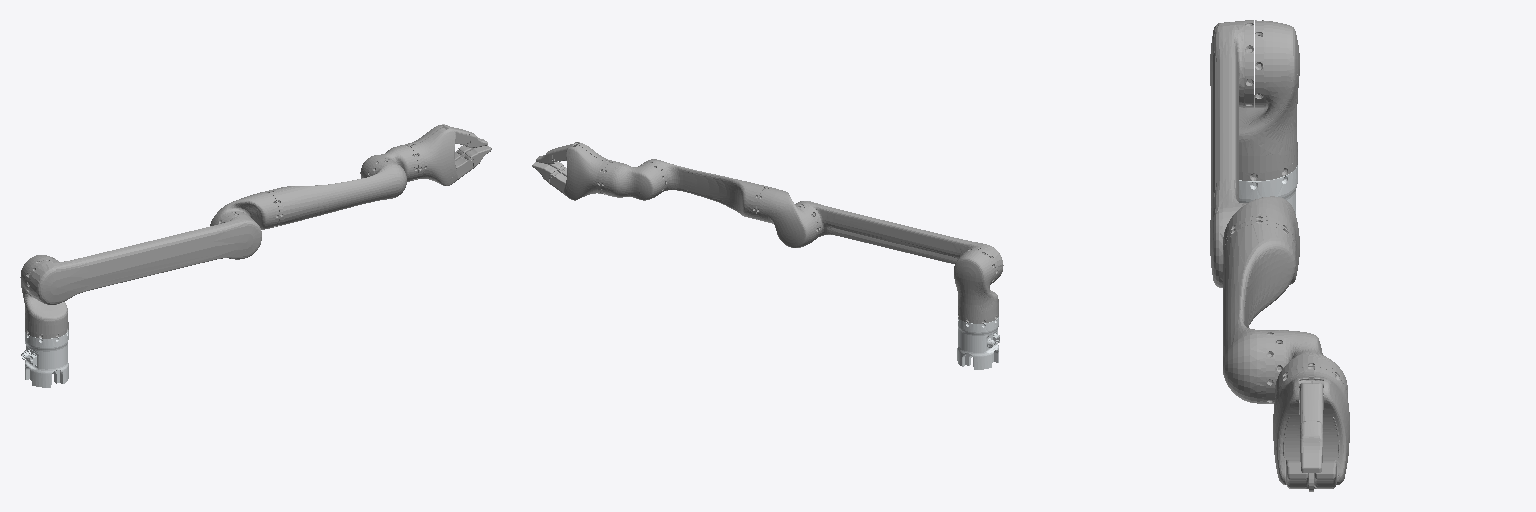
The robot description file, URDF, robot "aria_v2_arm":
<?xml version="1.0" encoding="utf-8"?>
<!-- This URDF was automatically created by SolidWorks to URDF Exporter! Originally created by [author] ([email redacted]) 
     Commit Version: 1.5.1-0-g916b5db  Build Version: 1.5.7152.31018
     For more information, please see http://wiki.ros.org/sw_urdf_exporter -->
<robot
  name="aria_v2_arm">
  <link
    name="base_link">
    <inertial>
      <origin
        xyz="-0.000383789783829872 -0.000295313814780738 0.0610779332797032"
        rpy="0 0 0" />
      <mass
        value="0.0001" />
      <inertia
        ixx="0.1"
        ixy="0.1"
        ixz="0.1"
        iyy="0.1"
        iyz="0.1"
        izz="0.1" />
    </inertial>
    <visual>
      <origin
        xyz="0 0 0"
        rpy="0 0 0" />
      <geometry>
        <mesh
          filename="package://aria_description/meshes/aria_v2/base_link.STL" />
      </geometry>
      <material
        name="">
        <color
          rgba="0.898039215686275 0.917647058823529 0.929411764705882 1" />
      </material>
    </visual>
    <collision>
      <origin
        xyz="0 0 0"
        rpy="0 0 0" />
      <geometry>
        <mesh
          filename="package://aria_description/meshes/aria_v2/base_link.STL" />
      </geometry>
    </collision>
  </link>
  <link
    name="arm_link_1">
    <inertial>
      <origin
        xyz="2.4686086719899E-06 0.0079576297403919 0.0595419107021942"
        rpy="0 0 0" />
      <mass
        value="0.0001" />
      <inertia
        ixx="0.1"
        ixy="0.1"
        ixz="0.1"
        iyy="0.1"
        iyz="0.1"
        izz="0.1" />
    </inertial>
    <visual>
      <origin
        xyz="0 0 0"
        rpy="0 0 0" />
      <geometry>
        <mesh
          filename="package://aria_description/meshes/aria_v2/Link_C2.STL" />
      </geometry>
      <material
        name="">
        <color
          rgba="0.698039215686274 0.698039215686274 0.698039215686274 1" />
      </material>
    </visual>
    <collision>
      <origin
        xyz="0 0 0"
        rpy="0 0 0" />
      <geometry>
        <mesh
          filename="package://aria_description/meshes/aria_v2/Link_C2.STL" />
      </geometry>
    </collision>
  </link>
  <joint
    name="arm_joint_1"
    type="continuous">
    <origin
      xyz="0 0 0.10125"
      rpy="0 0 0" />
    <parent
      link="base_link" />
    <child
      link="arm_link_1" />
    <axis
      xyz="0 0 1" />
    <limit
      lower="-3.1415"
      upper="3.1415"
      effort="10"
      velocity="0.7" />
  </joint>
  <link
    name="arm_link_2">
    <inertial>
      <origin
        xyz="0.205003242583219 -0.0210697838818882 0.00222877749732636"
        rpy="0 0 0" />
      <mass
        value="0.0001" />
      <inertia
        ixx="0.1"
        ixy="0.1"
        ixz="0.1"
        iyy="0.1"
        iyz="0.1"
        izz="0.1" />
    </inertial>
    <visual>
      <origin
        xyz="0 0 0"
        rpy="0 0 0" />
      <geometry>
        <mesh
          filename="package://aria_description/meshes/aria_v2/Link_C3.STL" />
      </geometry>
      <material
        name="">
        <color
          rgba="0.698039215686274 0.698039215686274 0.698039215686274 1" />
      </material>
    </visual>
    <collision>
      <origin
        xyz="0 0 0"
        rpy="0 0 0" />
      <geometry>
        <mesh
          filename="package://aria_description/meshes/aria_v2/Link_C3.STL" />
      </geometry>
    </collision>
  </link>
  <joint
    name="arm_joint_2"
    type="revolute">
    <origin
      xyz="0 0.000249999999999995 0.10375"
      rpy="0 0 0" />
    <parent
      link="arm_link_1" />
    <child
      link="arm_link_2" />
    <axis
      xyz="0 -1 0" />
    <limit
      lower="-0.97"
      upper="3.1415"
      effort="10"
      velocity="0.7" />
  </joint>
  <link
    name="arm_link_3">
    <inertial>
      <origin
        xyz="0.0268687450452961 0.0111399128954109 0.013563624456118"
        rpy="0 0 0" />
      <mass
        value="0.0001" />
      <inertia
        ixx="0.1"
        ixy="0.1"
        ixz="0.1"
        iyy="0.1"
        iyz="0.1"
        izz="0.1" />
    </inertial>
    <visual>
      <origin
        xyz="0 0 0"
        rpy="0 0 0" />
      <geometry>
        <mesh
          filename="package://aria_description/meshes/aria_v2/Link_C4.STL" />
      </geometry>
      <material
        name="">
        <color
          rgba="0.698039215686274 0.698039215686274 0.698039215686274 1" />
      </material>
    </visual>
    <collision>
      <origin
        xyz="0 0 0"
        rpy="0 0 0" />
      <geometry>
        <mesh
          filename="package://aria_description/meshes/aria_v2/Link_C4.STL" />
      </geometry>
    </collision>
  </link>
  <joint
    name="arm_joint_3"
    type="revolute">
    <origin
      xyz="0.41 0 0"
      rpy="0 0 0" />
    <parent
      link="arm_link_2" />
    <child
      link="arm_link_3" />
    <axis
      xyz="0 -1 0" />
    <limit
      lower="-3.1415"
      upper="1.689"
      effort="10"
      velocity="0.7" />
  </joint>
  <link
    name="arm_link_4">
    <inertial>
      <origin
        xyz="0.135116102833233 -0.0047939012468829 -7.36630495865032E-06"
        rpy="0 0 0" />
      <mass
        value="0.0001" />
      <inertia
        ixx="0.1"
        ixy="0.1"
        ixz="0.1"
        iyy="0.1"
        iyz="0.1"
        izz="0.1" />
    </inertial>
    <visual>
      <origin
        xyz="0 0 0"
        rpy="0 0 0" />
      <geometry>
        <mesh
          filename="package://aria_description/meshes/aria_v2/Link_C5.STL" />
      </geometry>
      <material
        name="">
        <color
          rgba="0.698039215686274 0.698039215686274 0.698039215686274 1" />
      </material>
    </visual>
    <collision>
      <origin
        xyz="0 0 0"
        rpy="0 0 0" />
      <geometry>
        <mesh
          filename="package://aria_description/meshes/aria_v2/Link_C5.STL" />
      </geometry>
    </collision>
  </link>
  <joint
    name="arm_joint_4"
    type="continuous">
    <origin
      xyz="0.07925 0.00474999841382343 0.03"
      rpy="0 0 0" />
    <parent
      link="arm_link_3" />
    <child
      link="arm_link_4" />
    <axis
      xyz="1 0 0" />
    <limit
      lower="-3.14"
      upper="3.14"
      effort="10"
      velocity="1.1" />
  </joint>
  <link
    name="arm_link_5">
    <inertial>
      <origin
        xyz="0.0293280630951598 0.0250334171427263 -1.12506015947922E-07"
        rpy="0 0 0" />
      <mass
        value="0.0001" />
      <inertia
        ixx="0.1"
        ixy="0.1"
        ixz="0.1"
        iyy="0.1"
        iyz="0.1"
        izz="0.1" />
    </inertial>
    <visual>
      <origin
        xyz="0 0 0"
        rpy="0 0 0" />
      <geometry>
        <mesh
          filename="package://aria_description/meshes/aria_v2/Link_C6.STL" />
      </geometry>
      <material
        name="">
        <color
          rgba="0.698039215686274 0.698039215686274 0.698039215686274 1" />
      </material>
    </visual>
    <collision>
      <origin
        xyz="0 0 0"
        rpy="0 0 0" />
      <geometry>
        <mesh
          filename="package://aria_description/meshes/aria_v2/Link_C6.STL" />
      </geometry>
    </collision>
  </link>
  <joint
    name="arm_joint_5"
    type="revolute">
    <origin
      xyz="0.256249099868797 0.01475 0"
      rpy="0 0 0" />
    <parent
      link="arm_link_4" />
    <child
      link="arm_link_5" />
    <axis
      xyz="0 -1 0" />
    <limit
      lower="-3.1"
      upper="3.1"
      effort="10"
      velocity="1.1" />
  </joint>
  <link
    name="gripper_link">
    <inertial>
      <origin
        xyz="0.0334581226474772 -0.000126138143076437 -0.000734228223442074"
        rpy="0 0 0" />
      <mass
        value="0.0001" />
      <inertia
        ixx="0.1"
        ixy="0.1"
        ixz="0.1"
        iyy="0.1"
        iyz="0.1"
        izz="0.1" />
    </inertial>
    <visual>
      <origin
        xyz="0 0 0"
        rpy="0 0 0" />
      <geometry>
        <mesh
          filename="package://aria_description/meshes/aria_v2/Link_Griper.STL" />
      </geometry>
      <material
        name="">
        <color
          rgba="0.698039215686274 0.698039215686274 0.698039215686274 1" />
      </material>
    </visual>
    <collision>
      <origin
        xyz="0 0 0"
        rpy="0 0 0" />
      <geometry>
        <mesh
          filename="package://aria_description/meshes/aria_v2/Link_Griper.STL" />
      </geometry>
    </collision>
  </link>
  <joint
    name="arm_joint_6"
    type="continuous">
    <origin
      xyz="0.0737500000000001 0.03475 0"
      rpy="0 0 0" />
    <parent
      link="arm_link_5" />
    <child
      link="gripper_link" />
    <axis
      xyz="1 0 0" />
    <limit
      lower="-3.1415"
      upper="3.1415"
      effort="10"
      velocity="1.1" />
  </joint>
  <link
    name="finger_link_1">
    <inertial>
      <origin
        xyz="0.0354845361894351 2.23851017722154E-08 0.0222436839684759"
        rpy="0 0 0" />
      <mass
        value="0.0001" />
      <inertia
        ixx="0.1"
        ixy="0.1"
        ixz="0.1"
        iyy="0.1"
        iyz="0.1"
        izz="0.1" />
    </inertial>
    <visual>
      <origin
        xyz="0 0 0"
        rpy="0 0 0" />
      <geometry>
        <mesh
          filename="package://aria_description/meshes/aria_v2/Finger_1.STL" />
      </geometry>
      <material
        name="">
        <color
          rgba="0.698039215686274 0.698039215686274 0.698039215686274 1" />
      </material>
    </visual>
    <collision>
      <origin
        xyz="0 0 0"
        rpy="0 0 0" />
      <geometry>
        <mesh
          filename="package://aria_description/meshes/aria_v2/Finger_1.STL" />
      </geometry>
    </collision>
  </link>
  <joint
    name="finger_joint_1"
    type="revolute">
    <origin
      xyz="0.0797500000000002 0 0.0309999999999987"
      rpy="0 0.78 0" />
    <parent
      link="gripper_link" />
    <child
      link="finger_link_1" />
    <axis
      xyz="0 -1 0" />
    <limit
      lower="0"
      upper="1.05"
      effort="10"
      velocity="0.4" />
  </joint>
  <link
    name="finger_link_2">
    <inertial>
      <origin
        xyz="0.0348190506316806 -7.78955235189172E-05 -0.0221332182287513"
        rpy="0 0 0" />
      <mass
        value="0.0001" />
      <inertia
        ixx="0.1"
        ixy="0.1"
        ixz="0.1"
        iyy="0.1"
        iyz="0.1"
        izz="0.1" />
    </inertial>
    <visual>
      <origin
        xyz="0 0 0"
        rpy="0 0 0" />
      <geometry>
        <mesh
          filename="package://aria_description/meshes/aria_v2/Finger_2.STL" />
      </geometry>
      <material
        name="">
        <color
          rgba="0.698039215686274 0.698039215686274 0.698039215686274 1" />
      </material>
    </visual>
    <collision>
      <origin
        xyz="0 0 0"
        rpy="0 0 0" />
      <geometry>
        <mesh
          filename="package://aria_description/meshes/aria_v2/Finger_2.STL" />
      </geometry>
    </collision>
  </link>
  <joint
    name="finger_joint_2"
    type="revolute">
    <origin
      xyz="0.0797500000000002 0.013 -0.0310000000000013"
      rpy="0 -0.78 0" />
    <parent
      link="gripper_link" />
    <child
      link="finger_link_2" />
    <axis
      xyz="0 1 0" />
    <limit
      lower="0"
      upper="1.05"
      effort="10"
      velocity="0.4" />
    <mimic joint="finger_joint_1" multiplier="1" offset="0"/> 
  </joint>
  <link
    name="finger_link_3">
    <inertial>
      <origin
        xyz="0.0348192229721972 7.93322569278068E-05 -0.0221332321409848"
        rpy="0 0 0" />
      <mass
        value="0.0001" />
      <inertia
        ixx="0.1"
        ixy="0.1"
        ixz="0.1"
        iyy="0.1"
        iyz="0.1"
        izz="0.1" />
    </inertial>
    <visual>
      <origin
        xyz="0 0 0"
        rpy="0 0 0" />
      <geometry>
        <mesh
          filename="package://aria_description/meshes/aria_v2/Finger_3.STL" />
      </geometry>
      <material
        name="">
        <color
          rgba="0.698039215686274 0.698039215686274 0.698039215686274 1" />
      </material>
    </visual>
    <collision>
      <origin
        xyz="0 0 0"
        rpy="0 0 0" />
      <geometry>
        <mesh
          filename="package://aria_description/meshes/aria_v2/Finger_3.STL" />
      </geometry>
    </collision>
  </link>
  <joint
    name="finger_joint_3"
    type="revolute">
    <origin
      xyz="0.0797500000000002 -0.013 -0.0310000000000013"
      rpy="0 -0.78 0" />
    <parent
      link="gripper_link" />
    <child
      link="finger_link_3" />
    <axis
      xyz="0 1 0" />
    <limit
      lower="0"
      upper="1.05"
      effort="10"
      velocity="0.4" />
    <mimic joint="finger_joint_1" multiplier="1" offset="0"/> 
  </joint>
  <link name="eef_link" />
  <joint name="eef_joint" type="fixed">
    <parent link="gripper_link" />
    <child link="eef_link" />
    <origin xyz="0.12775 0 0" rpy="3.1415 -1.5708 0" />
  </joint>
</robot>

--- Facts derived from the render (not from the file) ---
Views: 3 orthographic renders of the robot side by side, from view 1: azimuth 30°, elevation 25°; view 2: azimuth 150°, elevation 25°; view 3: azimuth 270°, elevation 25°.
Model aria_v2_arm with 11 links and 10 joints (6 revolute, 3 continuous, 1 fixed), rooted at base_link, posed every joint at zero.
Visible links, largest first — view 1: arm_link_2, arm_link_4, base_link, gripper_link, arm_link_1, arm_link_3, arm_link_5, finger_link_3; view 2: arm_link_2, arm_link_4, arm_link_1, arm_link_3, arm_link_5, base_link, gripper_link; view 3: arm_link_4, arm_link_1, arm_link_2, gripper_link, arm_link_5, finger_link_1, arm_link_3, base_link, finger_link_3, finger_link_2.
Link boxes in pixels (x1,y1,x2,y2): arm_link_2: (27, 213, 261, 304); arm_link_4: (269, 160, 406, 226); base_link: (21, 330, 68, 387); gripper_link: (407, 124, 457, 185); arm_link_1: (20, 255, 68, 338); arm_link_3: (210, 191, 279, 229); arm_link_5: (360, 144, 418, 181); finger_link_3: (455, 145, 491, 179); arm_link_2: (795, 201, 1003, 282); arm_link_4: (643, 159, 767, 219); arm_link_1: (954, 249, 998, 323); arm_link_3: (756, 187, 817, 247); arm_link_5: (601, 161, 664, 200); base_link: (957, 317, 999, 369); gripper_link: (564, 142, 611, 200); arm_link_4: (1223, 220, 1295, 403); arm_link_1: (1239, 20, 1299, 180); arm_link_2: (1210, 20, 1253, 287); gripper_link: (1273, 367, 1349, 491); arm_link_5: (1275, 330, 1347, 392); finger_link_1: (1300, 383, 1322, 472); arm_link_3: (1223, 196, 1299, 284); base_link: (1239, 165, 1297, 213); finger_link_3: (1286, 460, 1308, 488); finger_link_2: (1314, 460, 1336, 488).
Size in the robot's own frame: 1.03 by 0.133 by 0.2928 metres.
10 mesh visuals loaded from 10 distinct referenced files (10 binary STL).